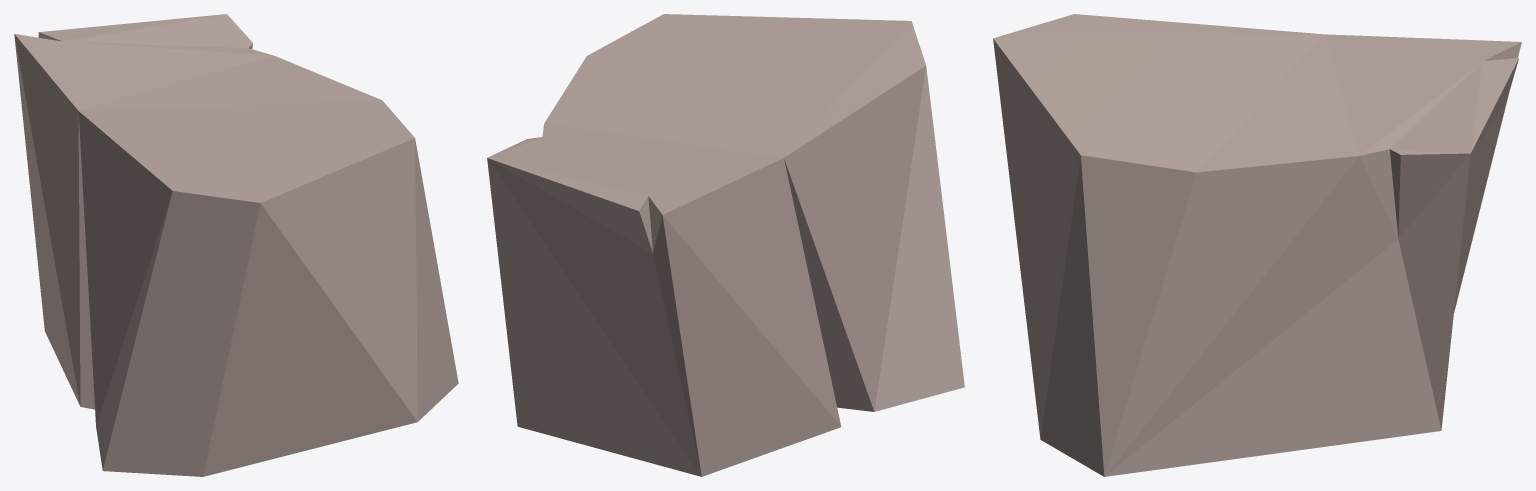
Rendered from rock_017.fbx.
The picture shows the model from 3 angles, left to right: view 1: azimuth 30°, elevation 25°; view 2: azimuth 150°, elevation 25°; view 3: azimuth 270°, elevation 25°; orthographic projection. The views are drawn at different scales.
Parts seen in each view (by area): view 1: rock.017; view 2: rock.017; view 3: rock.017.
Part boxes in pixels (x1,y1,x2,y2): rock.017: [14, 14, 458, 476]; rock.017: [487, 14, 964, 476]; rock.017: [993, 14, 1521, 476].
Size of the model in its own units: 249 by 190 by 294.
1 material, 1 textured.
